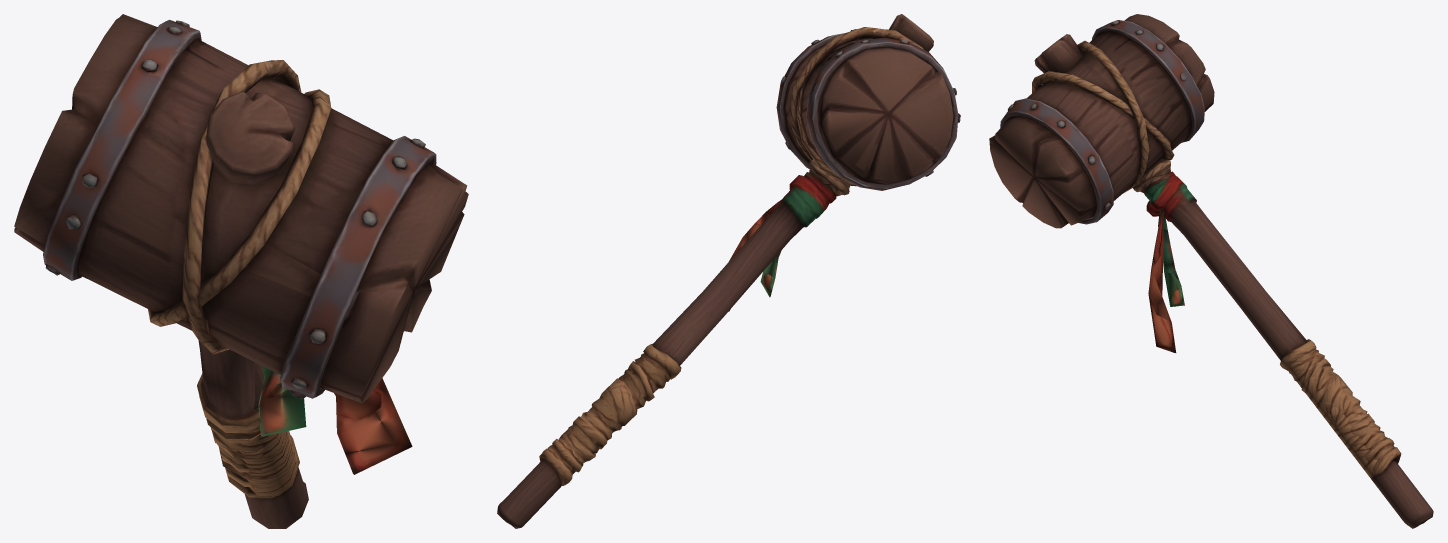
The model's file is vintner_wicker_mallet_tripo.glb.
The picture shows the model from 3 angles, left to right: view 1: azimuth 30°, elevation 25°; view 2: azimuth 150°, elevation 25°; view 3: azimuth 270°, elevation 25°; orthographic projection. The views are drawn at different scales.
Visible parts, largest first — view 1: tripo_node_6a87c9e9-00c4-46f8-b463-026eb40de094; view 2: tripo_node_6a87c9e9-00c4-46f8-b463-026eb40de094; view 3: tripo_node_6a87c9e9-00c4-46f8-b463-026eb40de094.
Part boxes in pixels (x1,y1,x2,y2): tripo_node_6a87c9e9-00c4-46f8-b463-026eb40de094: (14, 14, 468, 528); tripo_node_6a87c9e9-00c4-46f8-b463-026eb40de094: (497, 14, 960, 528); tripo_node_6a87c9e9-00c4-46f8-b463-026eb40de094: (989, 14, 1433, 528).
Bounding box in the file's own units: 0.7402 × 0.998 × 0.998.
Materials: 1 (1 with a texture image).
